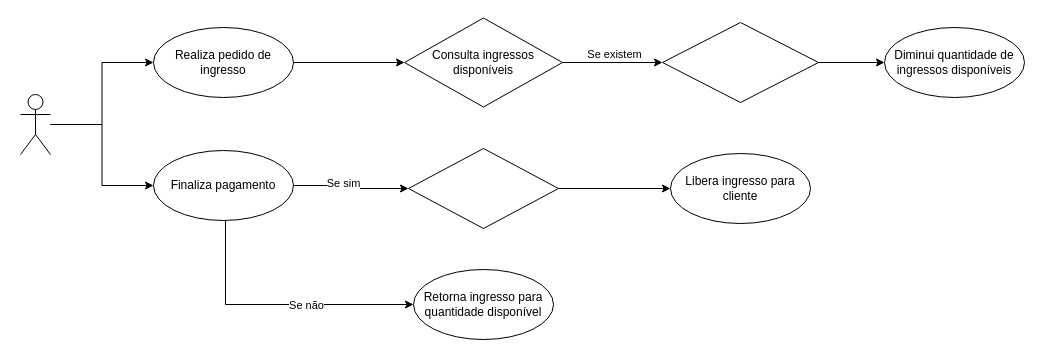
Some shapes in this 1042 by 357 pixel diagram are drawn without their labels. The centre of each missing label's shape, as x and y in pixels:
Bloqueia ingresso para cliente até o pagamento: the point at 740,62
Cliente: the point at 35,124
Consulta ingresso do cliente: the point at 483,188
